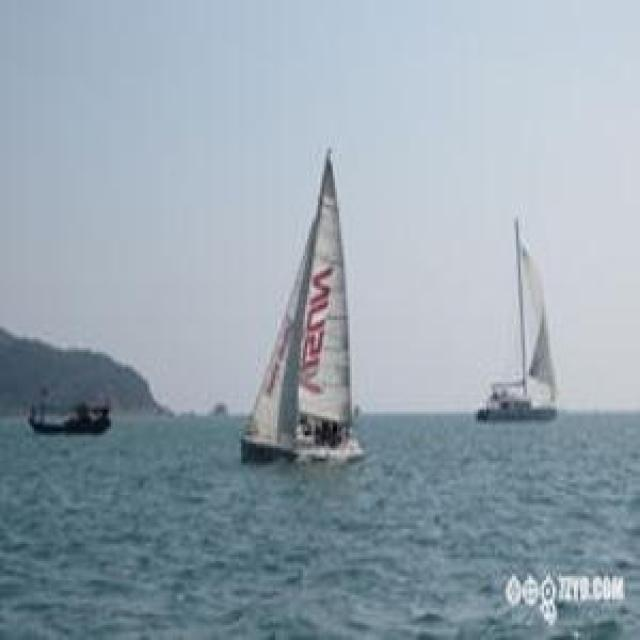fishing boat: (19, 386, 117, 434)
sailboat: (238, 141, 372, 468), (470, 210, 562, 421)
